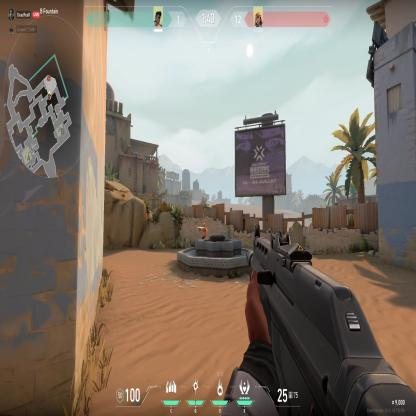enemy: (198, 221, 208, 239)
